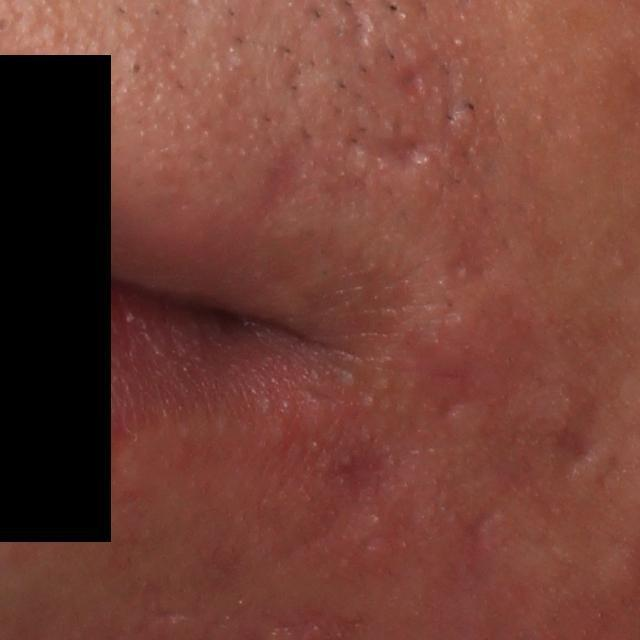atrophic_scar: (252, 129, 316, 224), (357, 127, 448, 177), (387, 58, 436, 107)
comedo: (126, 56, 153, 83)
